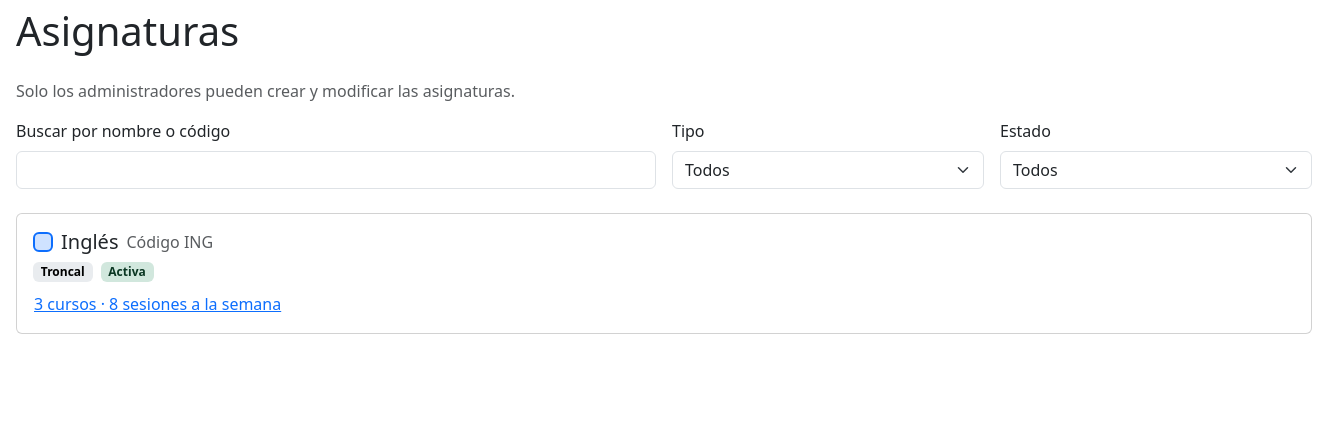
Test case: SubjectsPage › expanding the courses › adds the number of rules to the course, with the singular and the plural, and nothing when there are none
Click the button "3 cursos · 8 sesiones a la semana" at (158, 304), box [33, 291, 282, 317]
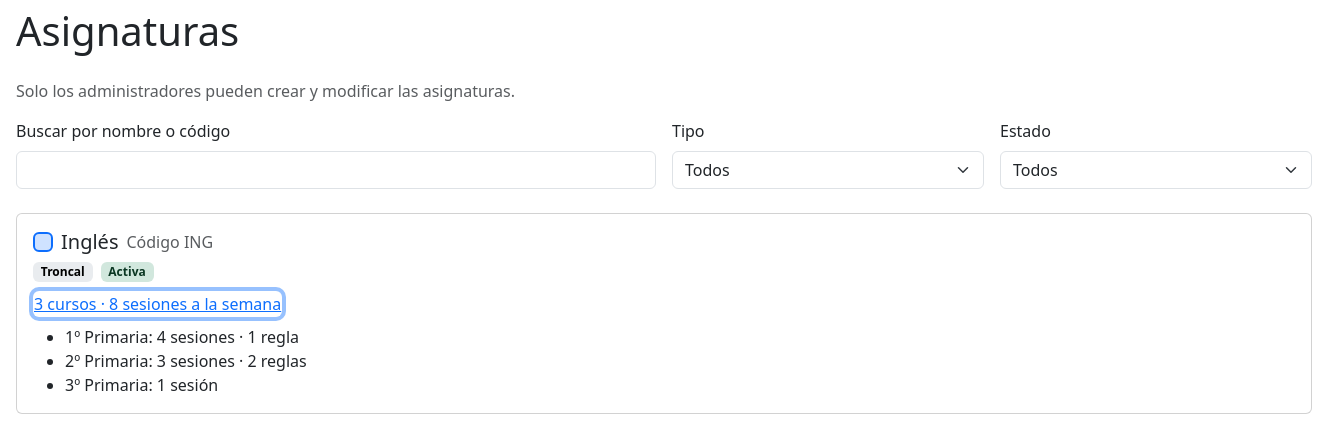
Expected: the list items read "1º Primaria: 4 sesiones · 1 regla", "2º Primaria: 3 sesiones · 2 reglas", "3º Primaria: 1 sesión", in this order, [65, 326, 299, 348]; [65, 350, 307, 372]; [65, 374, 218, 396]
